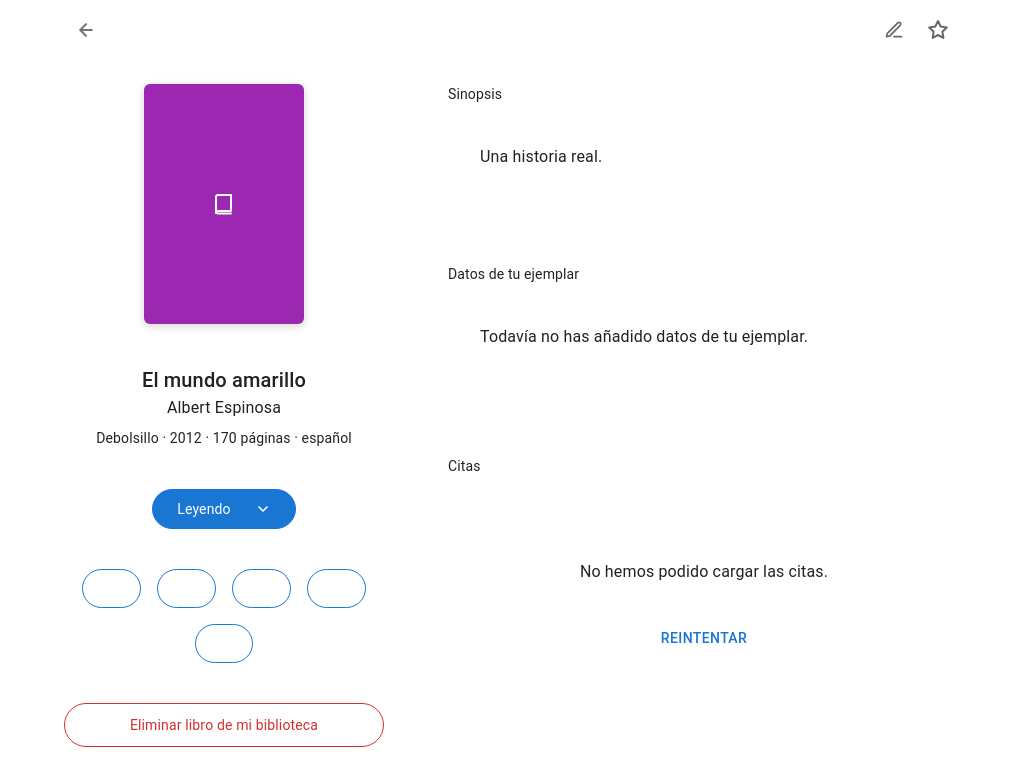
Test: Given the book detail page › When the book already has five tags › Then it explains the limit and offers no more
Click the button named "Editar datos": click(894, 30) left=872, top=8, right=916, bottom=52
(page scrolled)
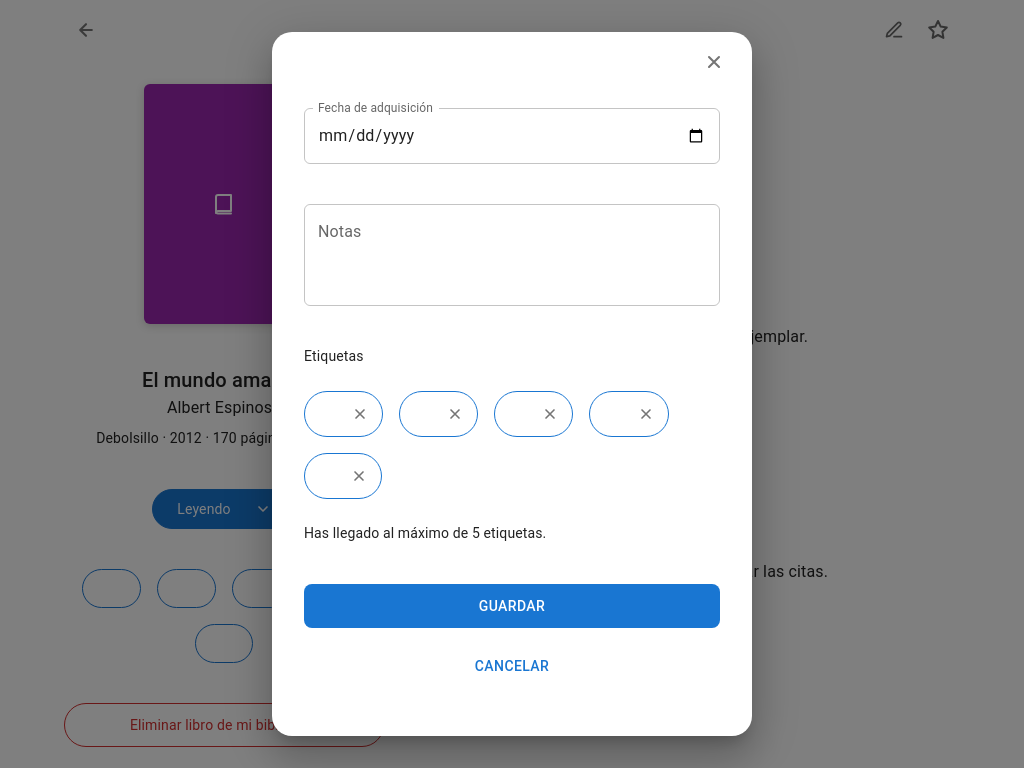
Now the text "Has llegado al máximo de 5 etiquetas." is shown, box left=304, top=525, right=546, bottom=541
